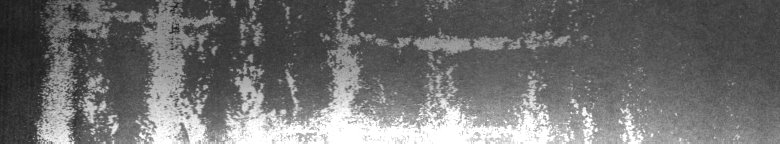kb: (32, 4, 647, 136)
